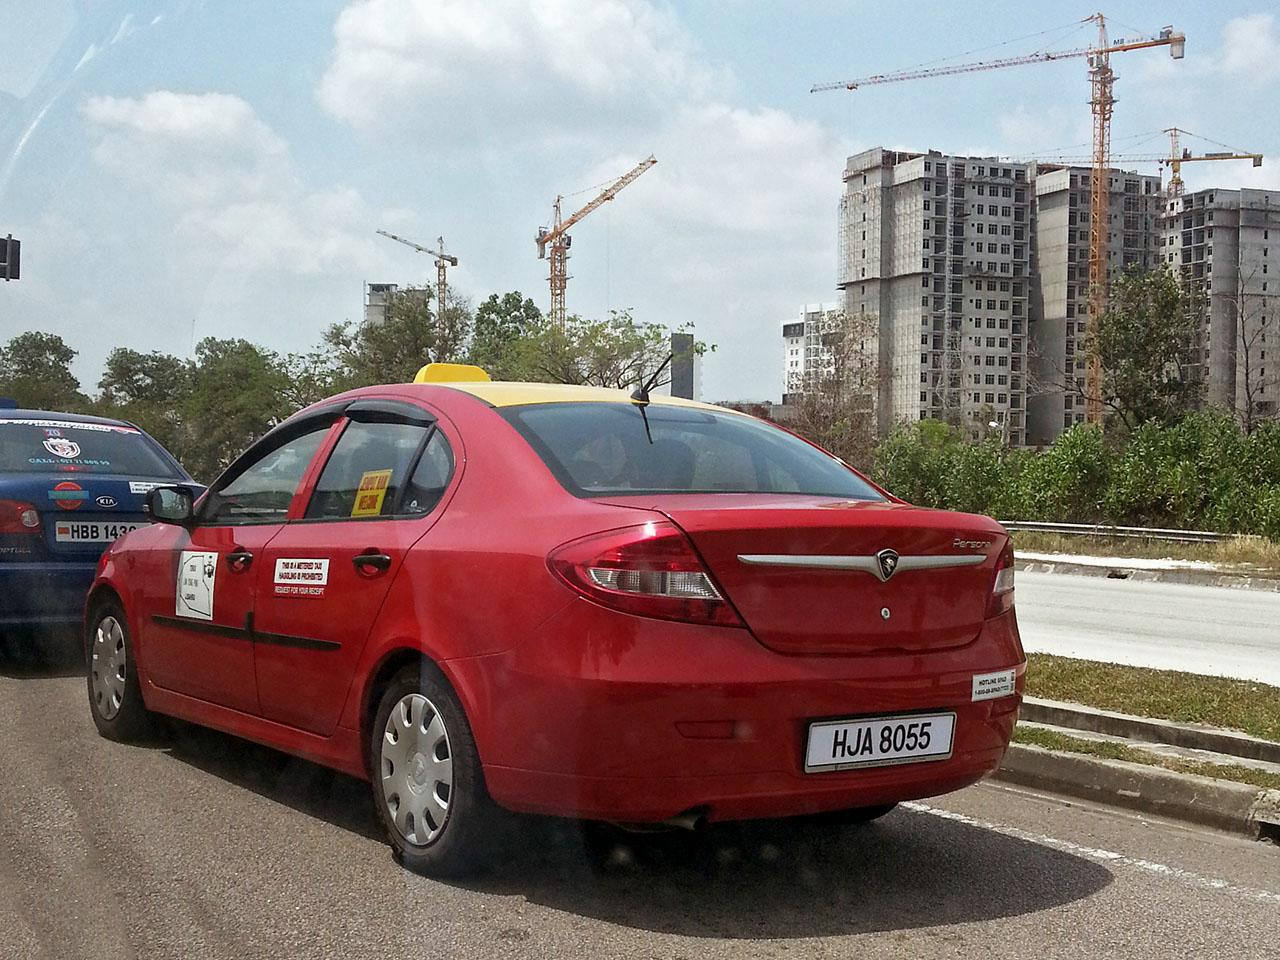License Plate: (812, 716, 959, 766)
